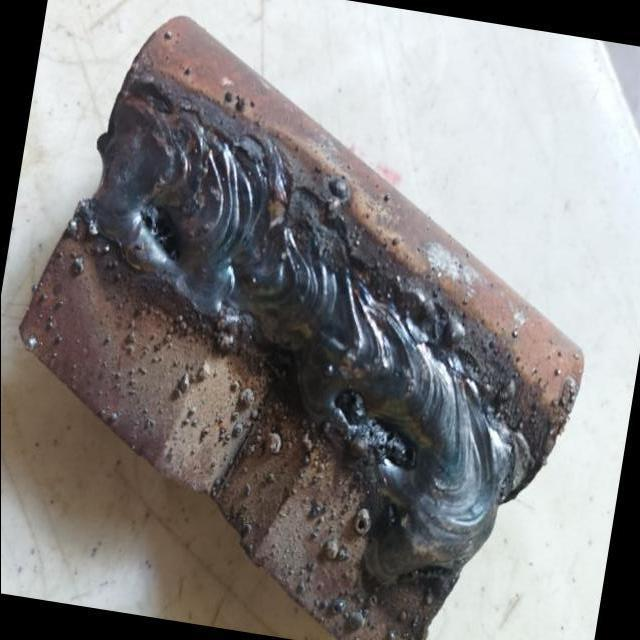defect: (337, 388, 419, 472), (136, 199, 183, 271)
